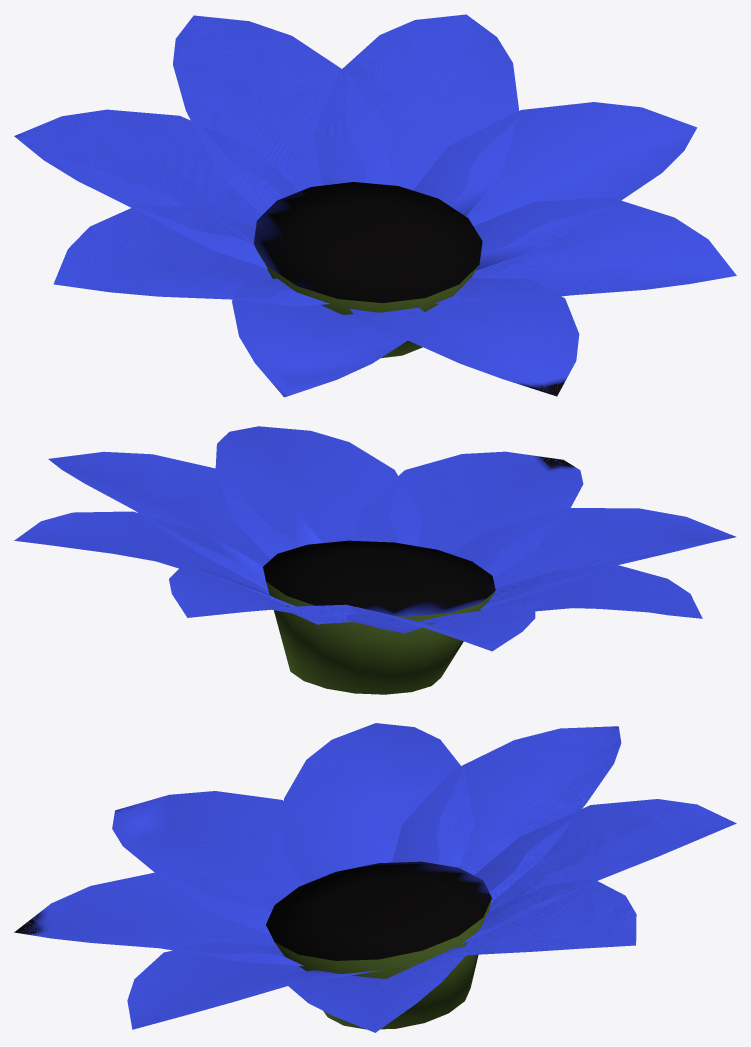
Rendered from Sm_Flowers3L.fbx.
The picture shows the model from 3 angles, top to bottom: view 1: azimuth 30°, elevation 25°; view 2: azimuth 150°, elevation 25°; view 3: azimuth 270°, elevation 25°; orthographic projection. The views are drawn at different scales.
Parts seen in each view (by area): view 1: Sm_Flowers3L; view 2: Sm_Flowers3L; view 3: Sm_Flowers3L.
Part boxes in pixels (x1=…): Sm_Flowers3L: x1=14, y1=14, x2=736, y2=397; Sm_Flowers3L: x1=14, y1=426, x2=735, y2=694; Sm_Flowers3L: x1=14, y1=723, x2=736, y2=1032.
Bounding box in the file's own units: 55.65 × 15.39 × 54.87.
